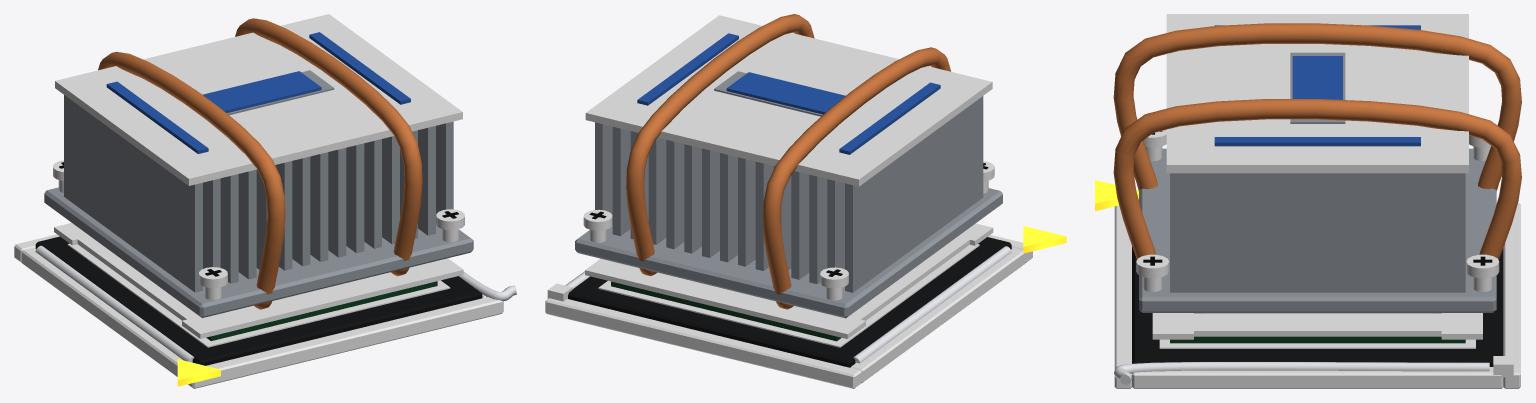
The model's file is hwm_cpu_xeon_14c.glb.
3 renders of one model, left to right at view 1: azimuth 30°, elevation 25°; view 2: azimuth 150°, elevation 25°; view 3: azimuth 270°, elevation 25°, orthographic. The views are drawn at different scales.
Parts seen in each view (by area): view 1: Cooler, Socket, Frame, CPU, Screw_1, Screw_3, Lever; view 2: Cooler, Socket, Frame, CPU, Screw_2, Screw_0; view 3: Cooler, Socket, Frame, Lever, CPU, Screw_2, Screw_3, Screw_1, Screw_0.
Part boxes in pixels (box(x1,y1,x2,y2)): Cooler: box(44, 14, 473, 317); Socket: box(14, 234, 503, 388); Frame: box(54, 223, 463, 338); CPU: box(206, 281, 437, 340); Screw_1: box(199, 267, 227, 300); Screw_3: box(436, 209, 464, 242); Lever: box(459, 272, 516, 301); Cooler: box(575, 14, 1002, 318); Socket: box(545, 226, 1066, 388); Frame: box(585, 223, 993, 338); CPU: box(611, 281, 841, 341); Screw_2: box(583, 209, 612, 242); Screw_0: box(820, 267, 848, 300); Cooler: box(1113, 14, 1521, 312); Socket: box(1095, 180, 1520, 388); Frame: box(1152, 313, 1482, 339); Lever: box(1114, 362, 1489, 384); CPU: box(1170, 313, 1465, 343); Screw_2: box(1466, 254, 1499, 291); Screw_3: box(1136, 254, 1169, 291); Screw_1: box(1143, 129, 1166, 161); Screw_0: box(1469, 135, 1490, 161).
Bounding box in the file's own units: 0.1338 × 0.0775 × 0.1241.
